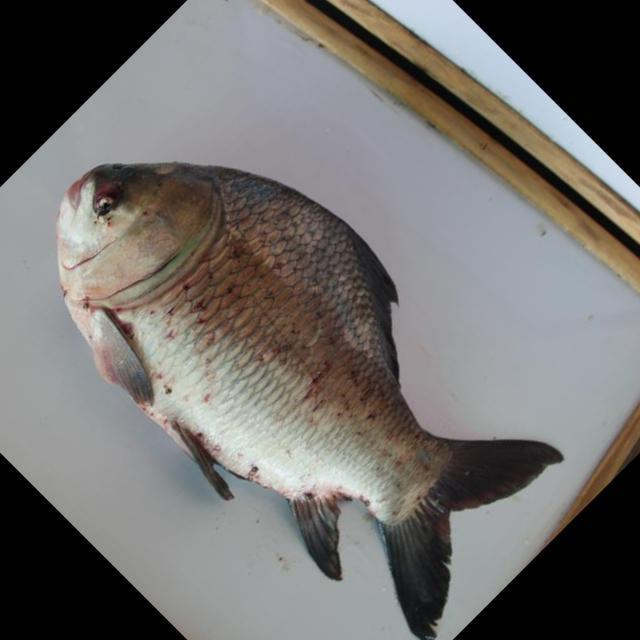Catla: (53, 152, 576, 640)
